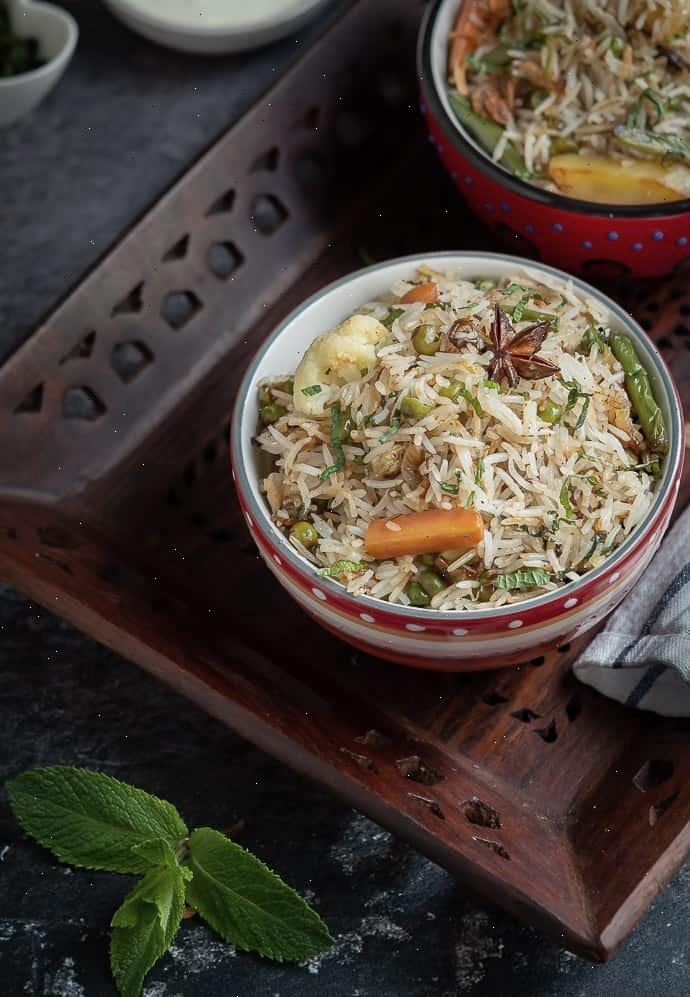veg-pulao: (246, 251, 647, 625), (460, 0, 690, 198)
